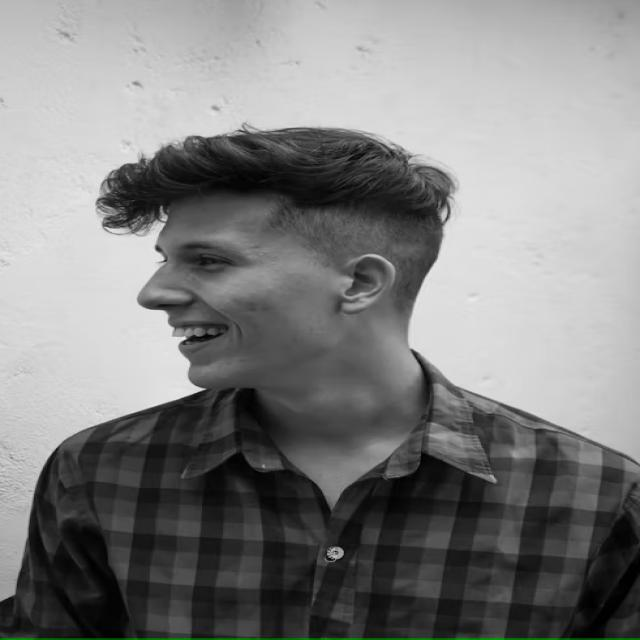Edited images: (15, 103, 640, 623)
